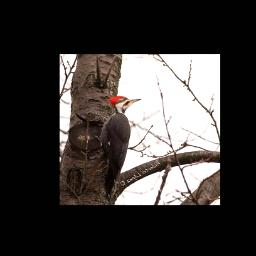Woodpecker: (97, 96, 144, 198)
